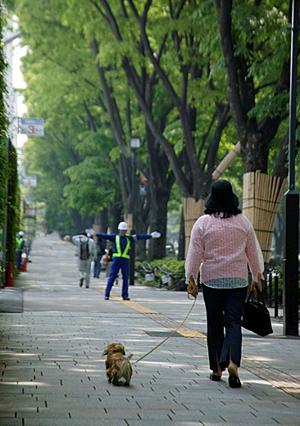person: (185, 180, 262, 389)
